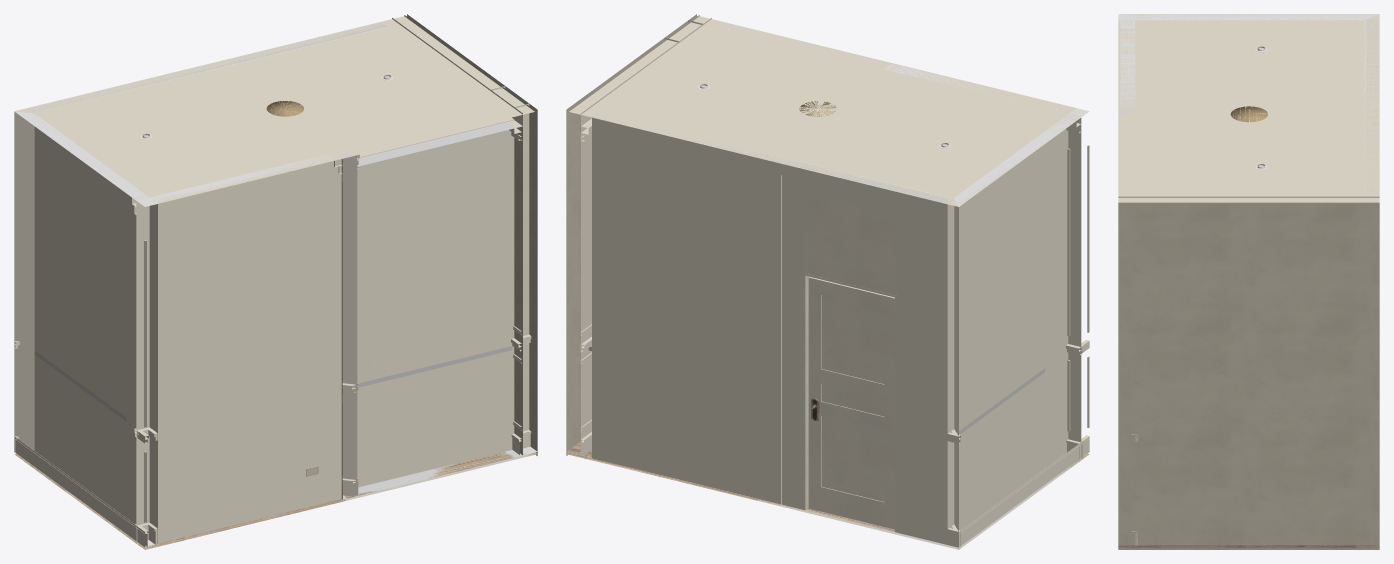
File: pantry-f13ec4b37961.glb
3 views of the same model, side by side, from view 1: azimuth 30°, elevation 25°; view 2: azimuth 150°, elevation 25°; view 3: azimuth 270°, elevation 25° (orthographic).
Parts seen in each view (by area): view 1: pantry-e1ae12ec9cba52a2, pantry-e64cabe238f3e83a, pantry-2575515a05775d9e, pantry-5b6bbac285e58726, pantry-6a1144f4e43410bb, pantry-e462de76b61e99cf, pantry-1b1dac62f3b0f38e, pantry-ab25ce0be192bde7, pantry-2c29ddcb8551cb02, pantry-3b0077416469e01b, pantry-4b4a529ae091588b, pantry-fd42d08ba78d189d (+9 smaller); view 2: pantry-bd4023b7987ad736, pantry-2575515a05775d9e, pantry-5b6bbac285e58726, pantry-90d279c9f3741083, pantry-af97eba351c411ae, pantry-151470939db8c09f, pantry-2c29ddcb8551cb02, pantry-b9e31e055fa428f9, pantry-4b4a529ae091588b, pantry-6a1144f4e43410bb, pantry-3b0077416469e01b, pantry-ecf72e0057751250 (+4 smaller); view 3: pantry-af97eba351c411ae, pantry-2575515a05775d9e, pantry-ab25ce0be192bde7, pantry-e462de76b61e99cf, pantry-4b4a529ae091588b, pantry-5b6bbac285e58726, pantry-e1ae12ec9cba52a2, pantry-ecf72e0057751250, pantry-710b1f455b9f0804, pantry-bd4023b7987ad736, pantry-deb6bd5c54985daf, pantry-3b0077416469e01b (+2 smaller).
Boxes of the visible parts, left/top/right/bottom form: pantry-e1ae12ec9cba52a2: left=149, top=154, right=341, bottom=543; pantry-e64cabe238f3e83a: left=342, top=122, right=522, bottom=495; pantry-2575515a05775d9e: left=15, top=15, right=534, bottom=203; pantry-5b6bbac285e58726: left=14, top=111, right=149, bottom=540; pantry-6a1144f4e43410bb: left=136, top=197, right=157, bottom=546; pantry-e462de76b61e99cf: left=514, top=104, right=537, bottom=455; pantry-1b1dac62f3b0f38e: left=135, top=434, right=512, bottom=524; pantry-ab25ce0be192bde7: left=490, top=86, right=529, bottom=431; pantry-2c29ddcb8551cb02: left=14, top=437, right=145, bottom=547; pantry-3b0077416469e01b: left=14, top=451, right=537, bottom=549; pantry-4b4a529ae091588b: left=35, top=27, right=391, bottom=116; pantry-fd42d08ba78d189d: left=357, top=117, right=514, bottom=172; pantry-bd4023b7987ad736: left=592, top=117, right=954, bottom=544; pantry-2575515a05775d9e: left=569, top=15, right=1087, bottom=206; pantry-5b6bbac285e58726: left=953, top=114, right=1081, bottom=547; pantry-90d279c9f3741083: left=808, top=277, right=894, bottom=529; pantry-af97eba351c411ae: left=566, top=37, right=679, bottom=455; pantry-151470939db8c09f: left=803, top=191, right=896, bottom=295; pantry-2c29ddcb8551cb02: left=959, top=436, right=1089, bottom=547; pantry-b9e31e055fa428f9: left=803, top=273, right=896, bottom=532; pantry-4b4a529ae091588b: left=601, top=110, right=957, bottom=198; pantry-6a1144f4e43410bb: left=1068, top=108, right=1089, bottom=440; pantry-3b0077416469e01b: left=566, top=441, right=1089, bottom=549; pantry-ecf72e0057751250: left=625, top=120, right=953, bottom=216; pantry-af97eba351c411ae: left=1183, top=196, right=1379, bottom=545; pantry-2575515a05775d9e: left=1118, top=14, right=1379, bottom=203; pantry-ab25ce0be192bde7: left=1135, top=196, right=1182, bottom=545; pantry-e462de76b61e99cf: left=1118, top=196, right=1135, bottom=545; pantry-4b4a529ae091588b: left=1355, top=20, right=1364, bottom=192; pantry-5b6bbac285e58726: left=1135, top=14, right=1378, bottom=20; pantry-e1ae12ec9cba52a2: left=1120, top=20, right=1135, bottom=106; pantry-ecf72e0057751250: left=1368, top=19, right=1376, bottom=192; pantry-710b1f455b9f0804: left=1135, top=14, right=1144, bottom=109; pantry-bd4023b7987ad736: left=1364, top=19, right=1379, bottom=191; pantry-deb6bd5c54985daf: left=1144, top=20, right=1355, bottom=24; pantry-3b0077416469e01b: left=1118, top=545, right=1379, bottom=547.
Bounding box in the file's own units: 3.62 × 3.05 × 2.09.
24 materials, 4 textured.
